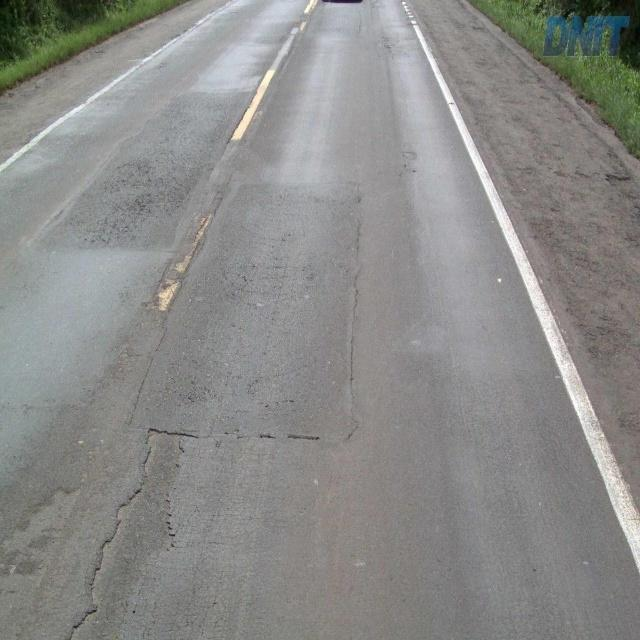pothole: (61, 422, 206, 639)
